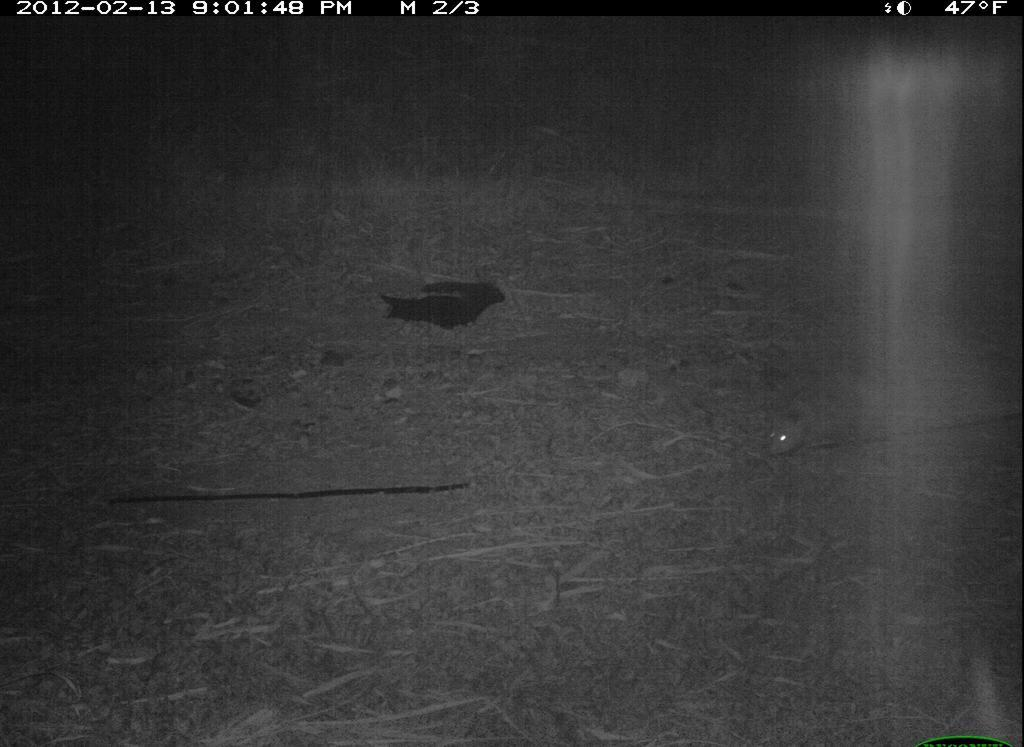opossum: (760, 363, 902, 470)
